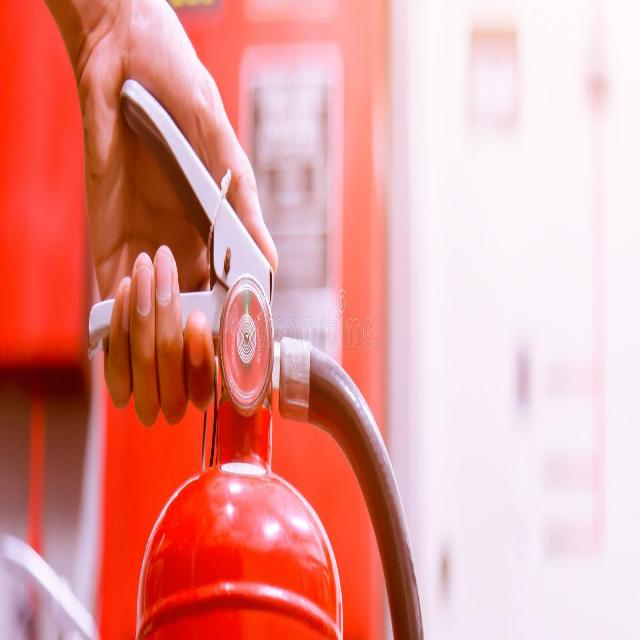fire_extinguisher: (83, 68, 439, 639)
